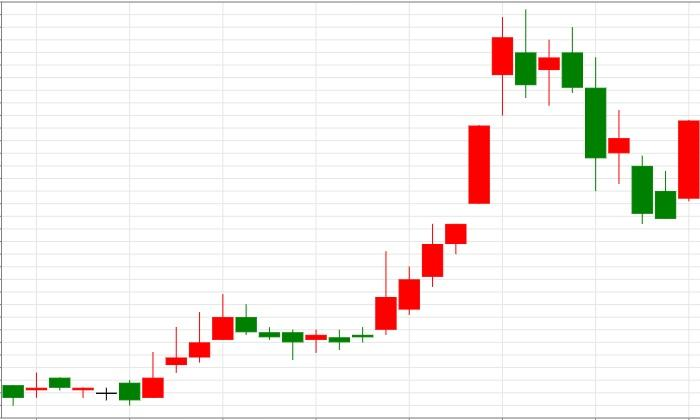shooting_star_fall: (374, 9, 536, 334)
